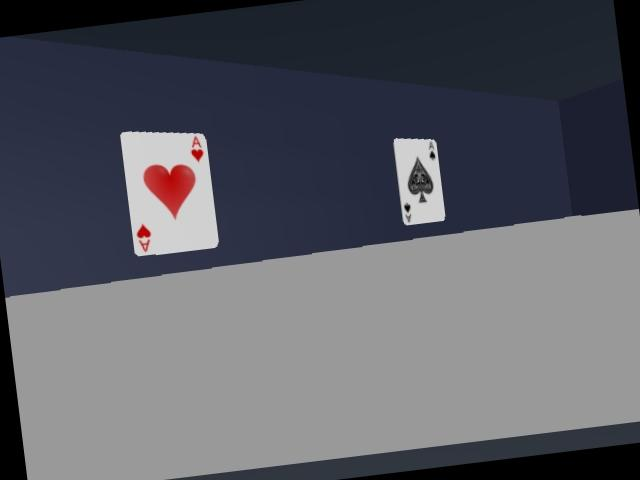heart: (120, 132, 218, 255)
spade: (393, 138, 445, 224)
